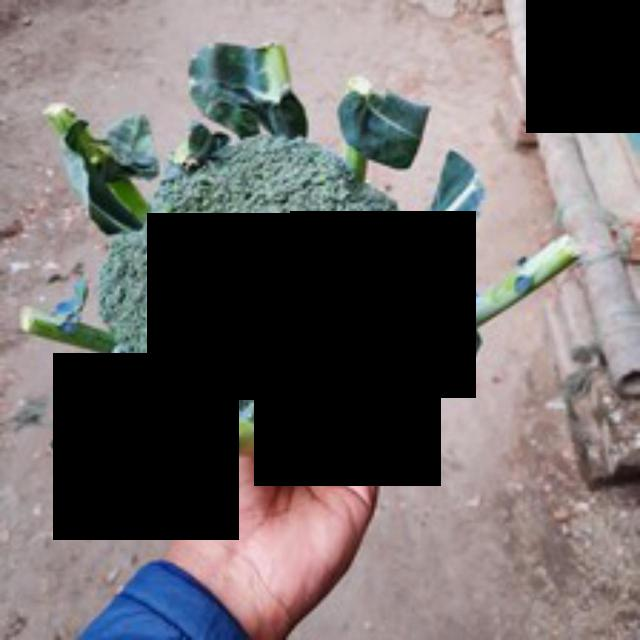broccoli: (105, 132, 422, 443)
